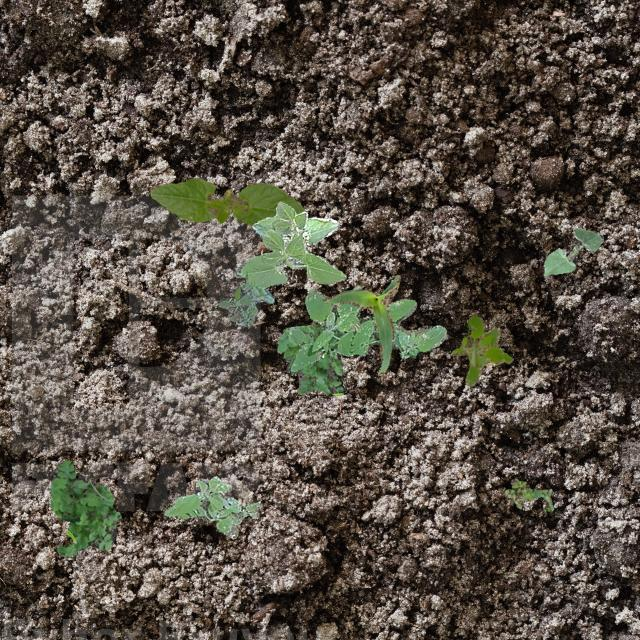crop: (233, 200, 344, 286), (322, 274, 399, 374), (150, 177, 304, 224), (542, 227, 602, 276)
weed: (288, 284, 446, 372), (49, 460, 120, 556), (164, 476, 260, 538), (276, 324, 344, 394), (450, 314, 512, 384), (216, 282, 272, 326), (503, 478, 552, 510)
